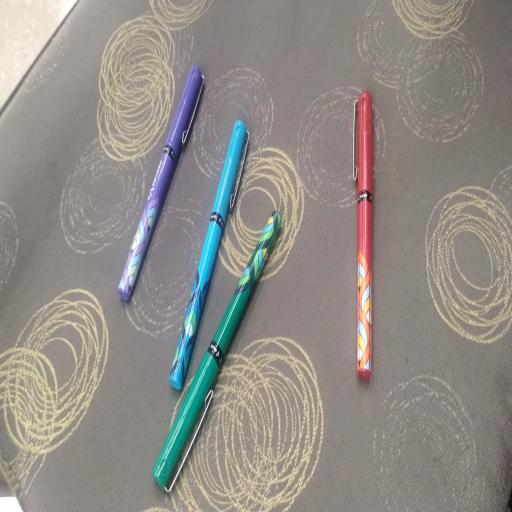pen: (152, 211, 281, 491), (170, 120, 248, 389), (119, 65, 204, 300), (354, 92, 372, 379)
